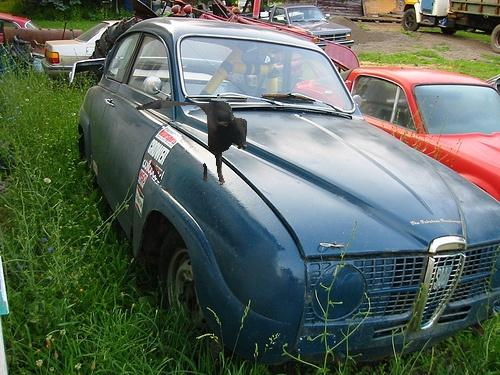tampered: (136, 100, 247, 185)
